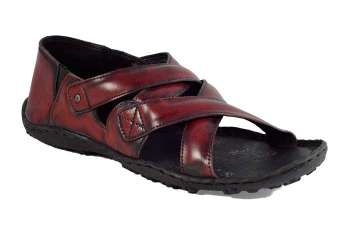Footwear: (20, 34, 329, 201)
